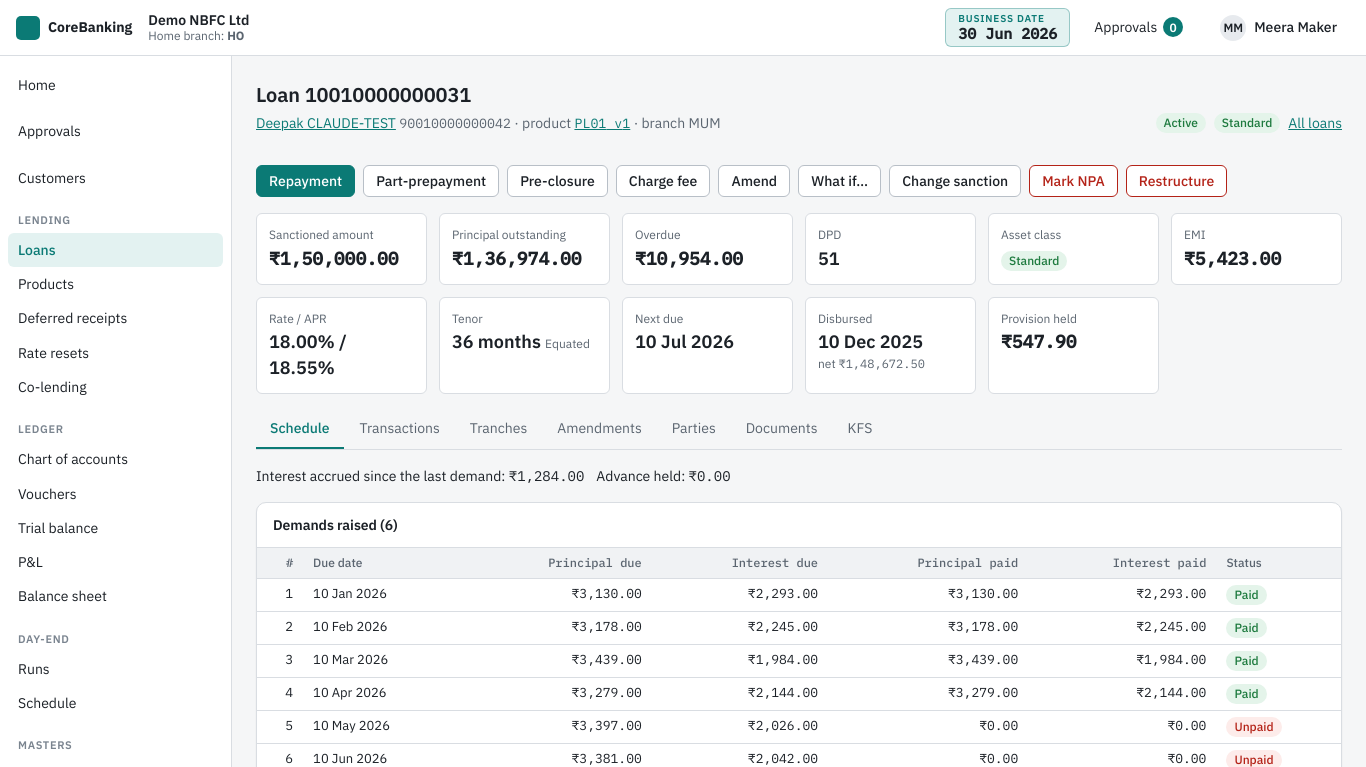
Test: release of a guarantor or co-applicant › is proposed from the Parties tab, takes effect on approval and keeps the record
Click the tab "Parties": coordinates (694, 430) [658,410,730,449]
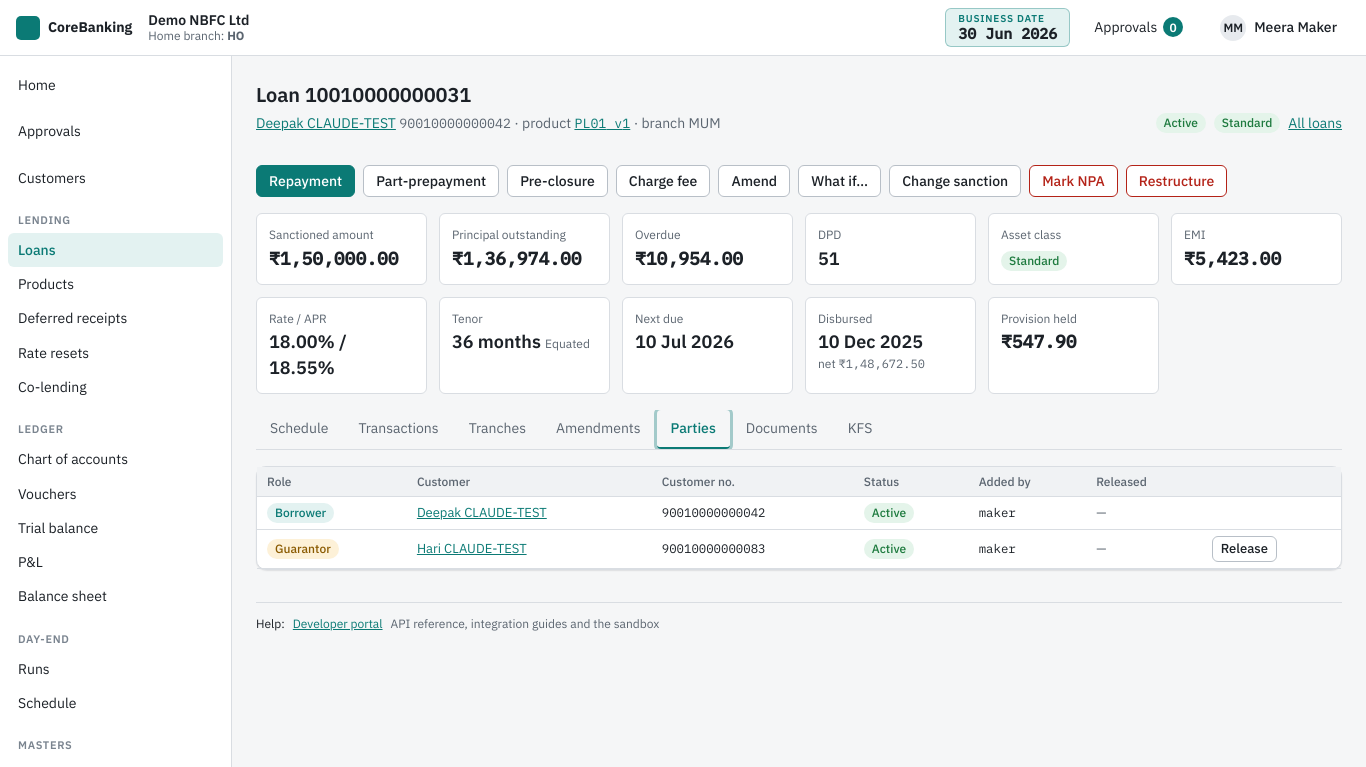
expect the button "Release" is shown: met
Click the button "Release": coordinates (1244, 549) [1212,536,1277,562]
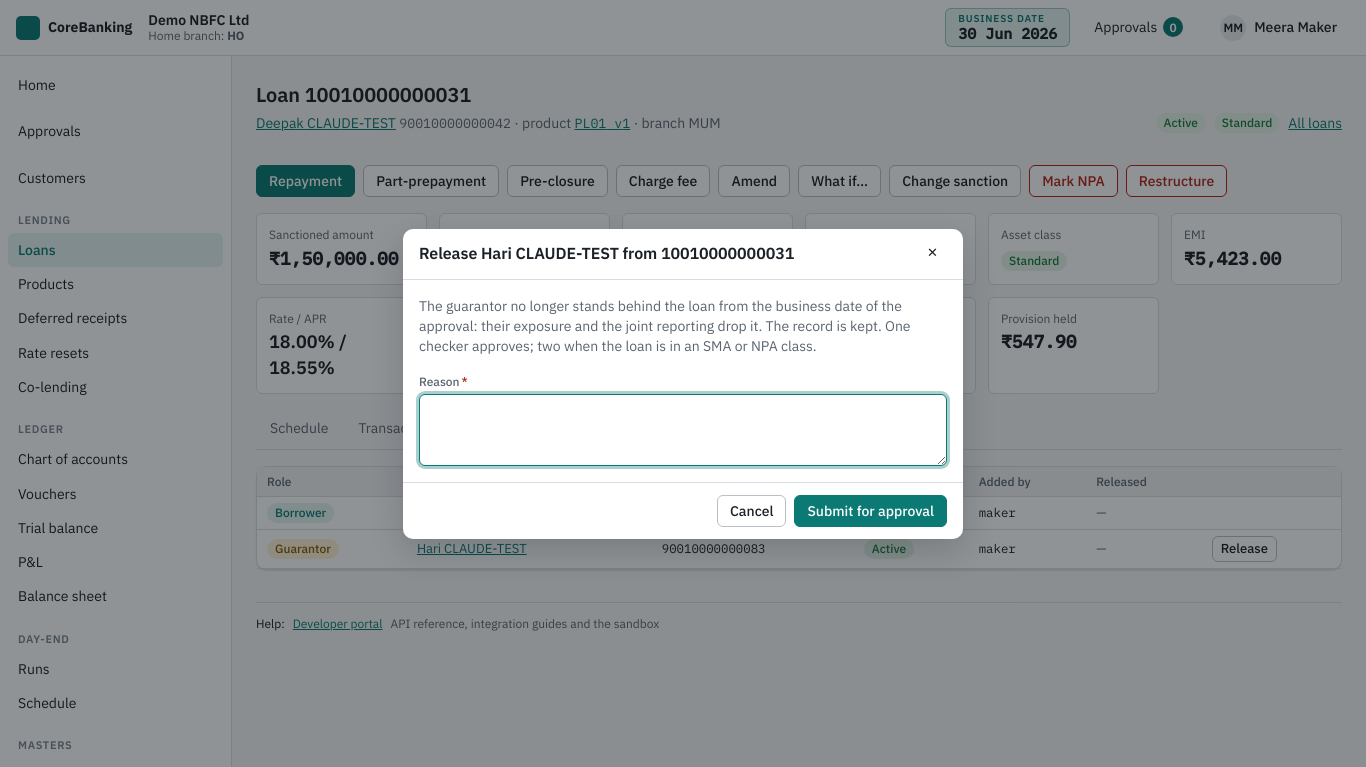
Click the button "Submit for approval": coordinates (871, 511) [794,495,947,527]
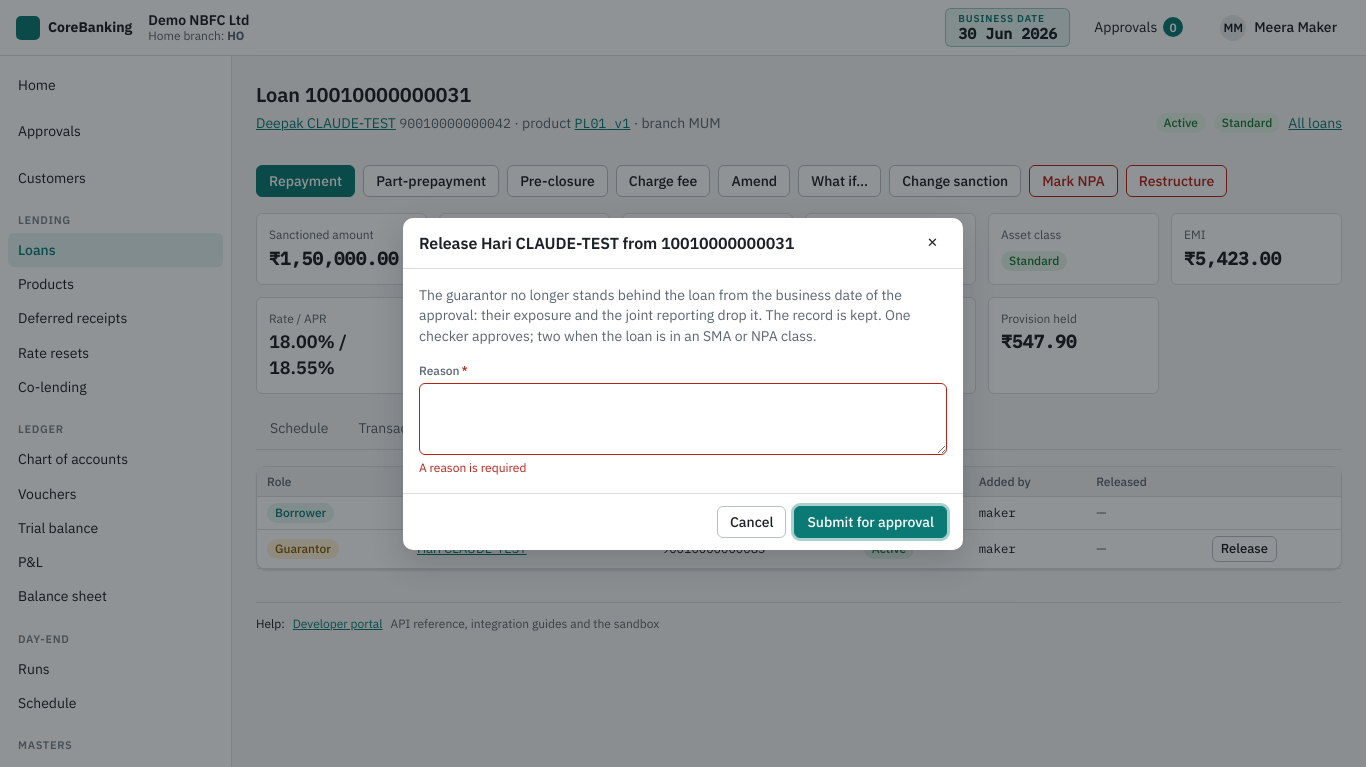
expect the text "A reason is required" is shown: met, box [419,460,526,475]
In the text box labelled "Reason*": coordinates (683, 419) [419,383,947,455], type "CLAUDE-TEST guarantee discharged"
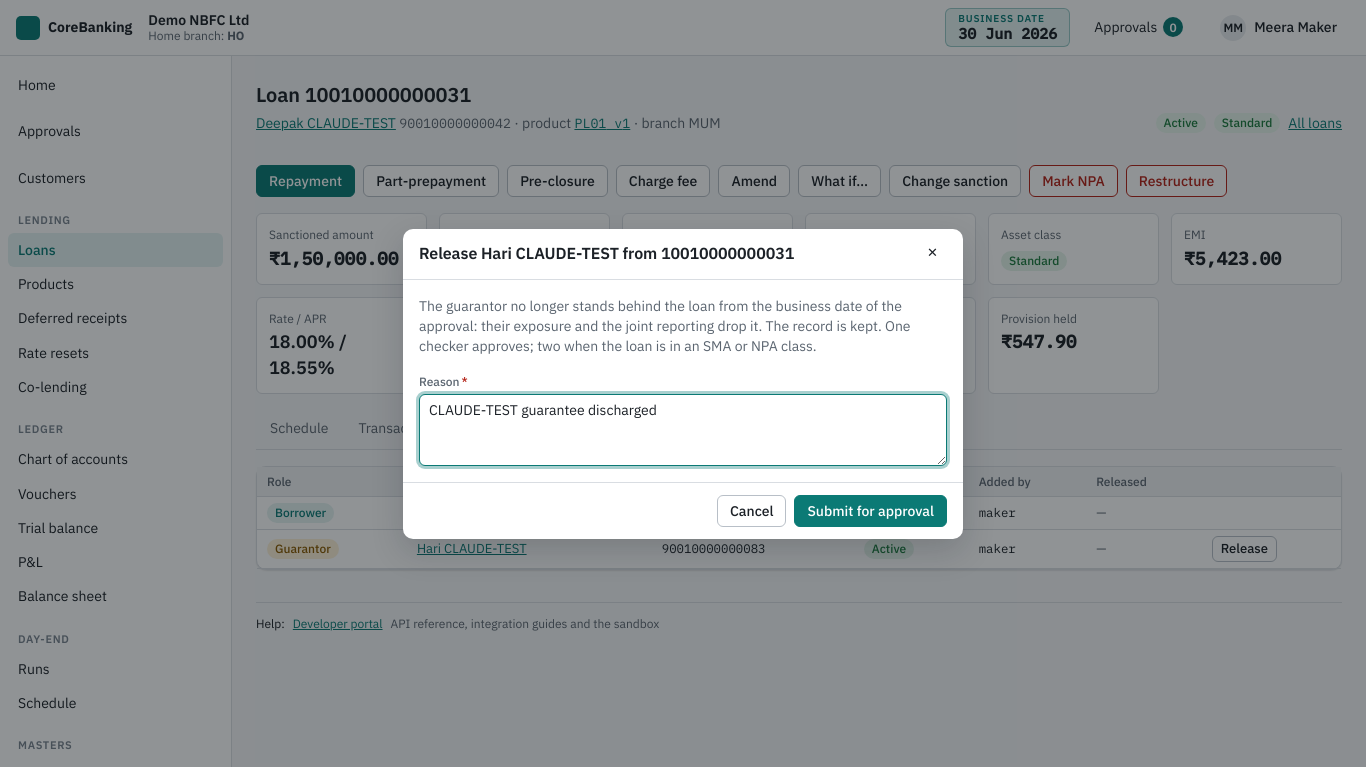
Click the button "Submit for approval": coordinates (871, 511) [794,495,947,527]
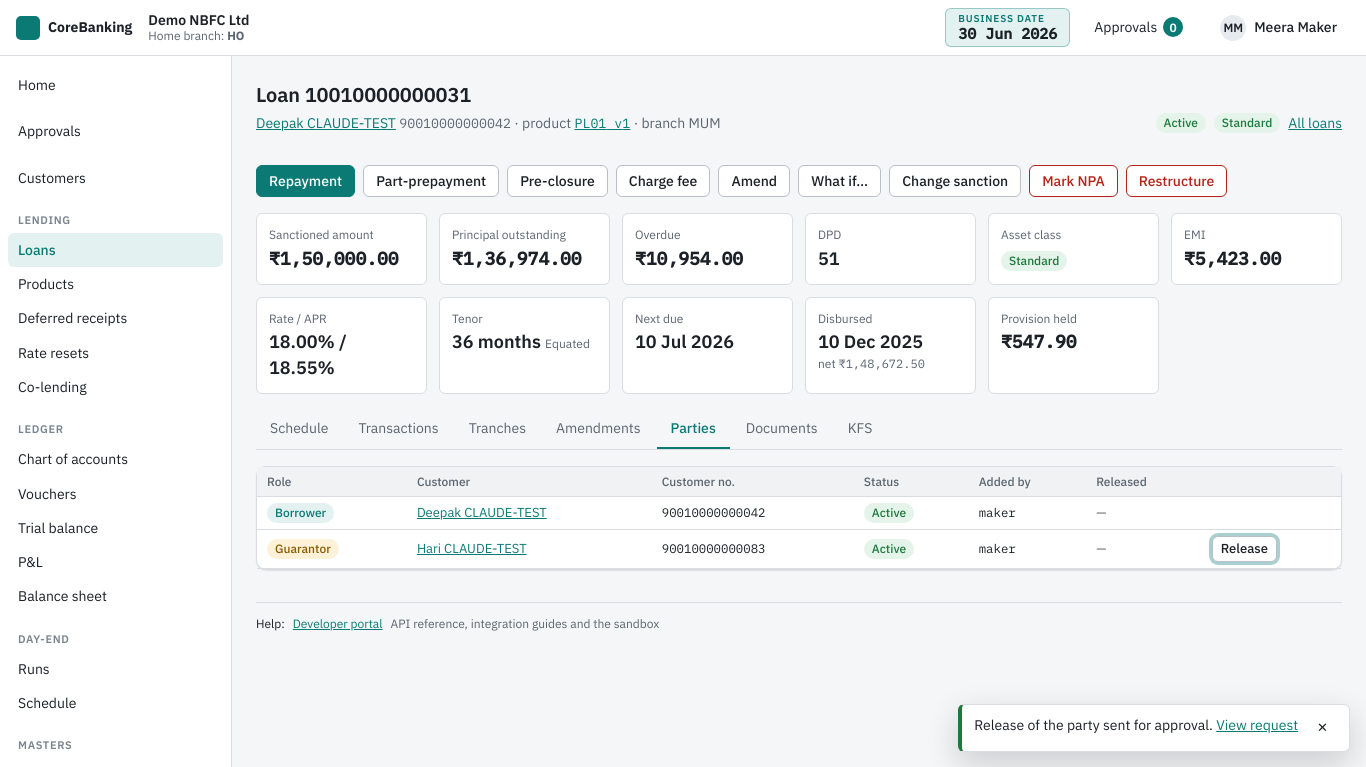
expect the text "Release of the party sent for approval." is shown: met, box [974,716,1213,734]
